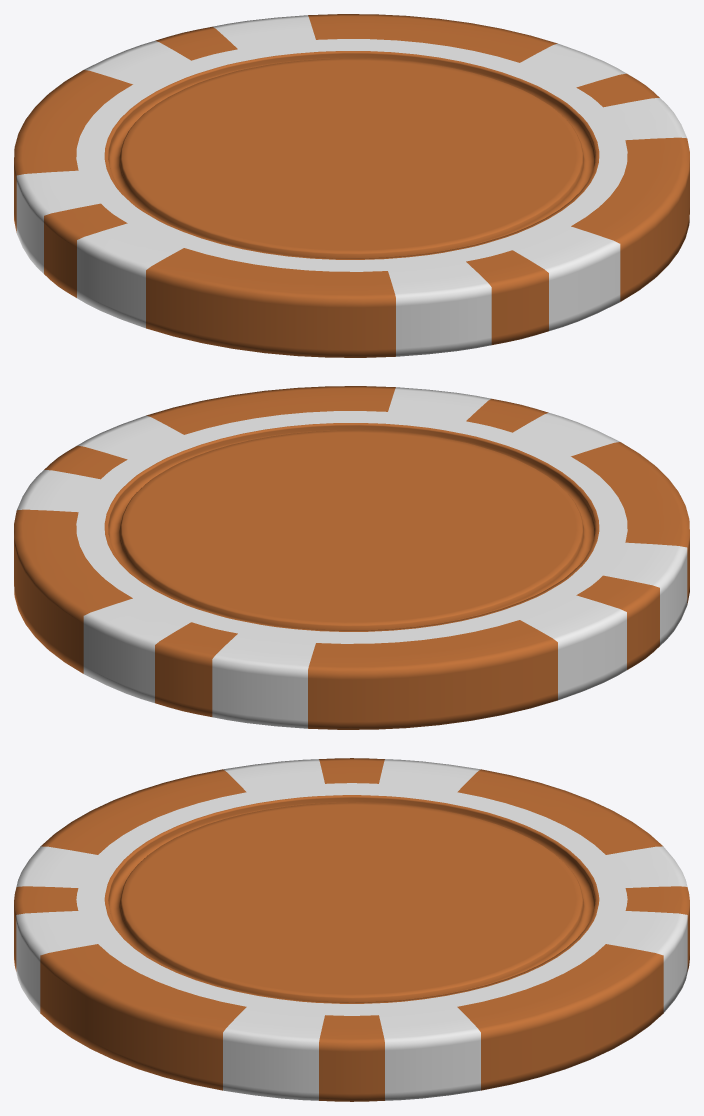
The model's file is casino_poker_chip.glb.
The picture shows the model from 3 angles, top to bottom: view 1: azimuth 30°, elevation 25°; view 2: azimuth 150°, elevation 25°; view 3: azimuth 270°, elevation 25°; orthographic projection.
Visible parts, largest first — view 1: Chip; view 2: Chip; view 3: Chip.
Boxes of the visible parts, bbox=[...] form: Chip: bbox=[14, 14, 689, 357]; Chip: bbox=[14, 386, 689, 729]; Chip: bbox=[14, 758, 689, 1101].
Size of the model in its own units: 2 by 0.1988 by 2.
